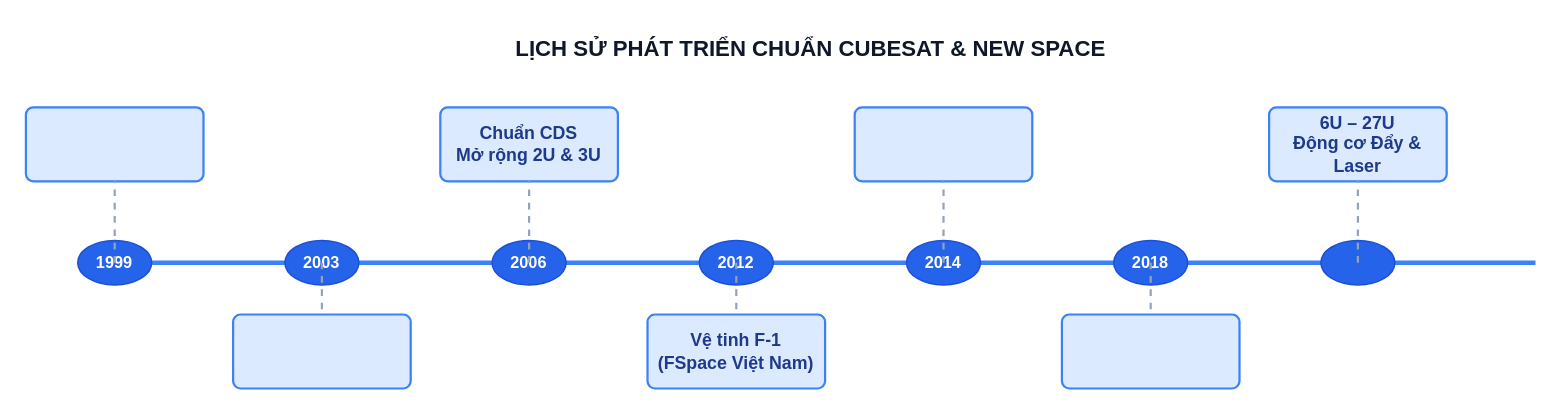
Image size: 1566x414. Some labels were removed from this diagram. The shapes that lost their labels are listed below. From the top down, each one's centre as x and y in pixels, then its label:
the point at 114,144: Khởi xướng 1U (CalPoly & Stanford)
the point at 943,144: Chòm Vệ tinh Planet Dove (3U)
the point at 1357,262: Nay
the point at 321,351: Phóng 6 CubeSat Đầu tiên (Rokot)
the point at 1150,351: NASA MarCO 6U (Bay tới Sao Hỏa)
